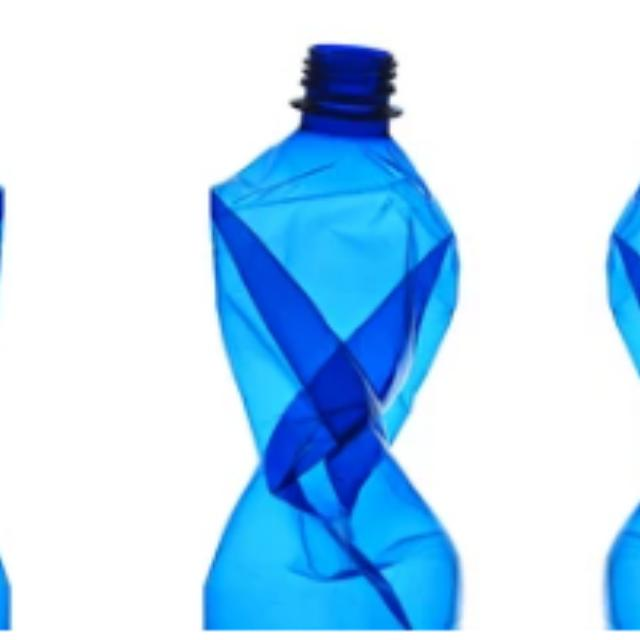Plastic: (155, 26, 493, 640), (572, 26, 640, 639), (0, 26, 57, 639)
